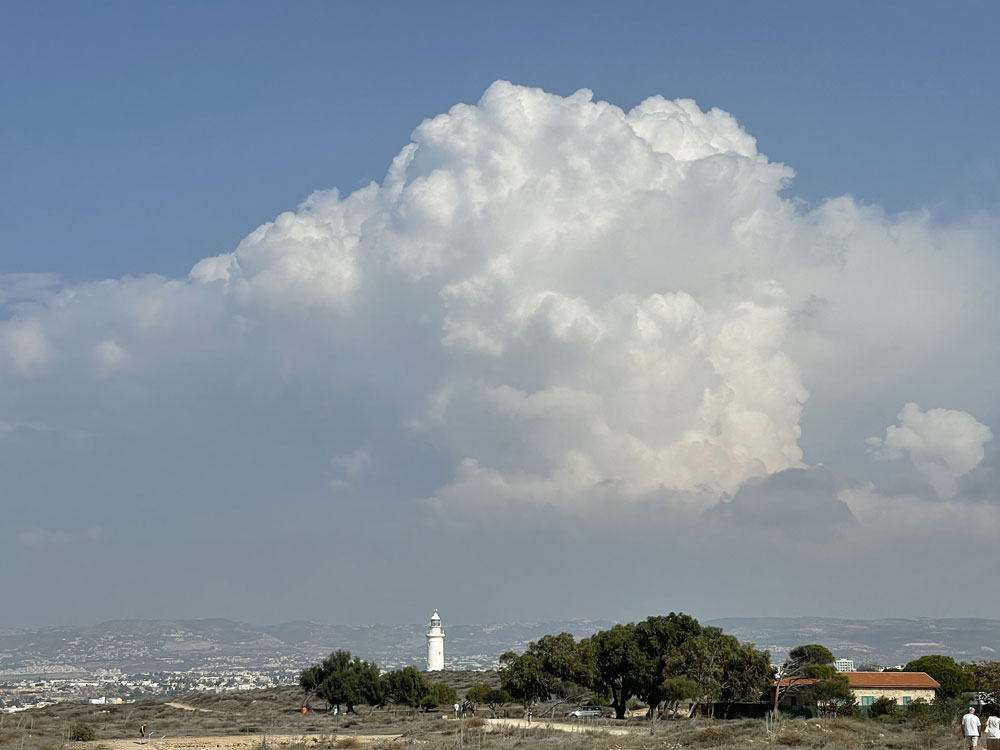Cumulus: (17, 52, 1000, 570)
